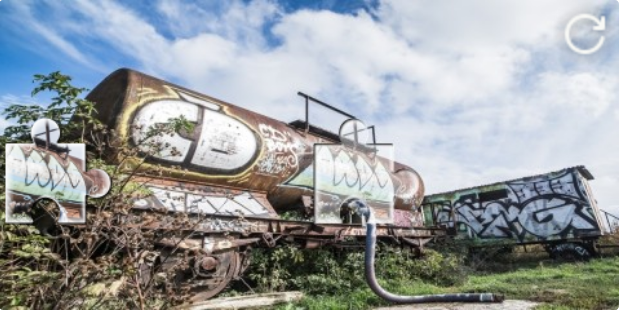target: (314, 119, 418, 223)
